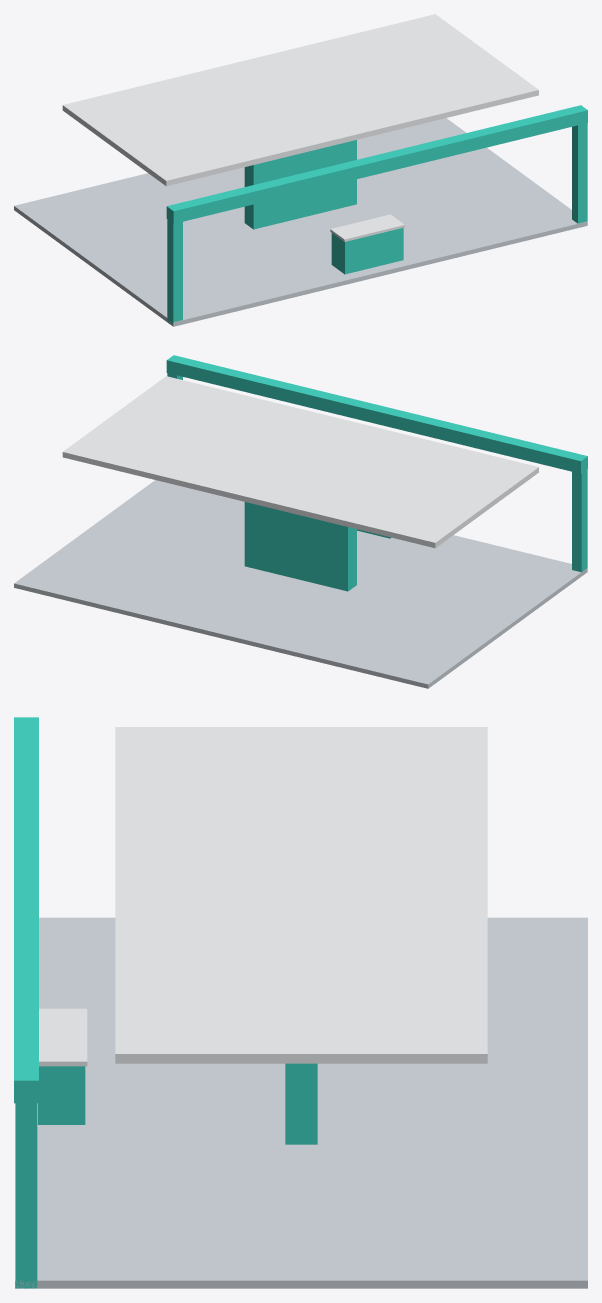
3 renders of one model, top to bottom at view 1: azimuth 30°, elevation 25°; view 2: azimuth 150°, elevation 25°; view 3: azimuth 270°, elevation 25°, orthographic. The views are drawn at different scales.
Visible parts, largest first — view 1: Exhibition Booth Concept; view 2: Exhibition Booth Concept; view 3: Exhibition Booth Concept.
Boxes of the visible parts, bbox=[...] form: Exhibition Booth Concept: bbox=[14, 14, 587, 326]; Exhibition Booth Concept: bbox=[14, 355, 587, 688]; Exhibition Booth Concept: bbox=[14, 717, 587, 1288].
Size of the model in its own units: 12 by 3.34 by 8.01.
